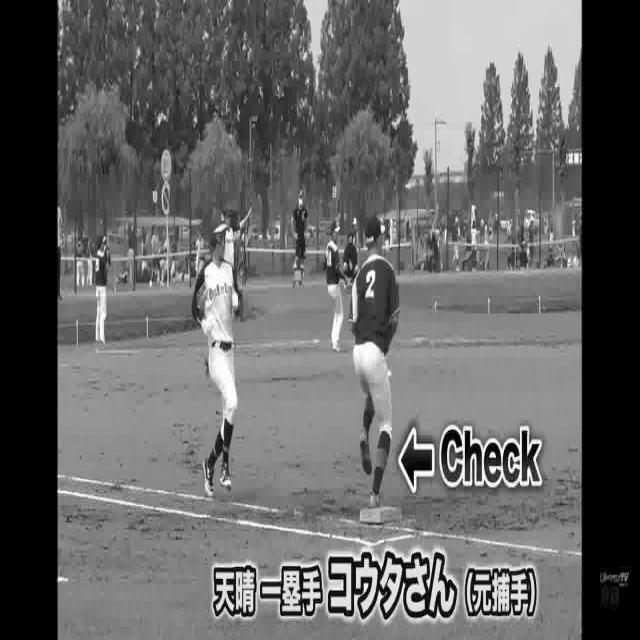base: (359, 504, 401, 527)
shoe: (357, 423, 373, 472), (202, 449, 214, 505), (220, 460, 232, 495), (369, 487, 383, 510)
